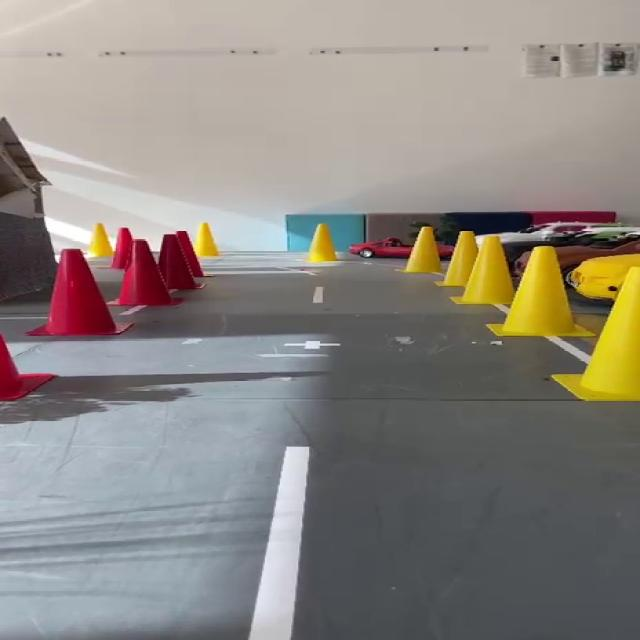Cone-red: (29, 249, 128, 334), (110, 232, 201, 307), (0, 332, 54, 400), (0, 333, 54, 400), (110, 228, 131, 271)
Cones-yellow: (452, 236, 593, 336), (552, 268, 639, 400), (441, 231, 476, 287), (403, 226, 443, 274), (190, 222, 219, 268), (308, 224, 338, 262), (87, 224, 113, 258)
